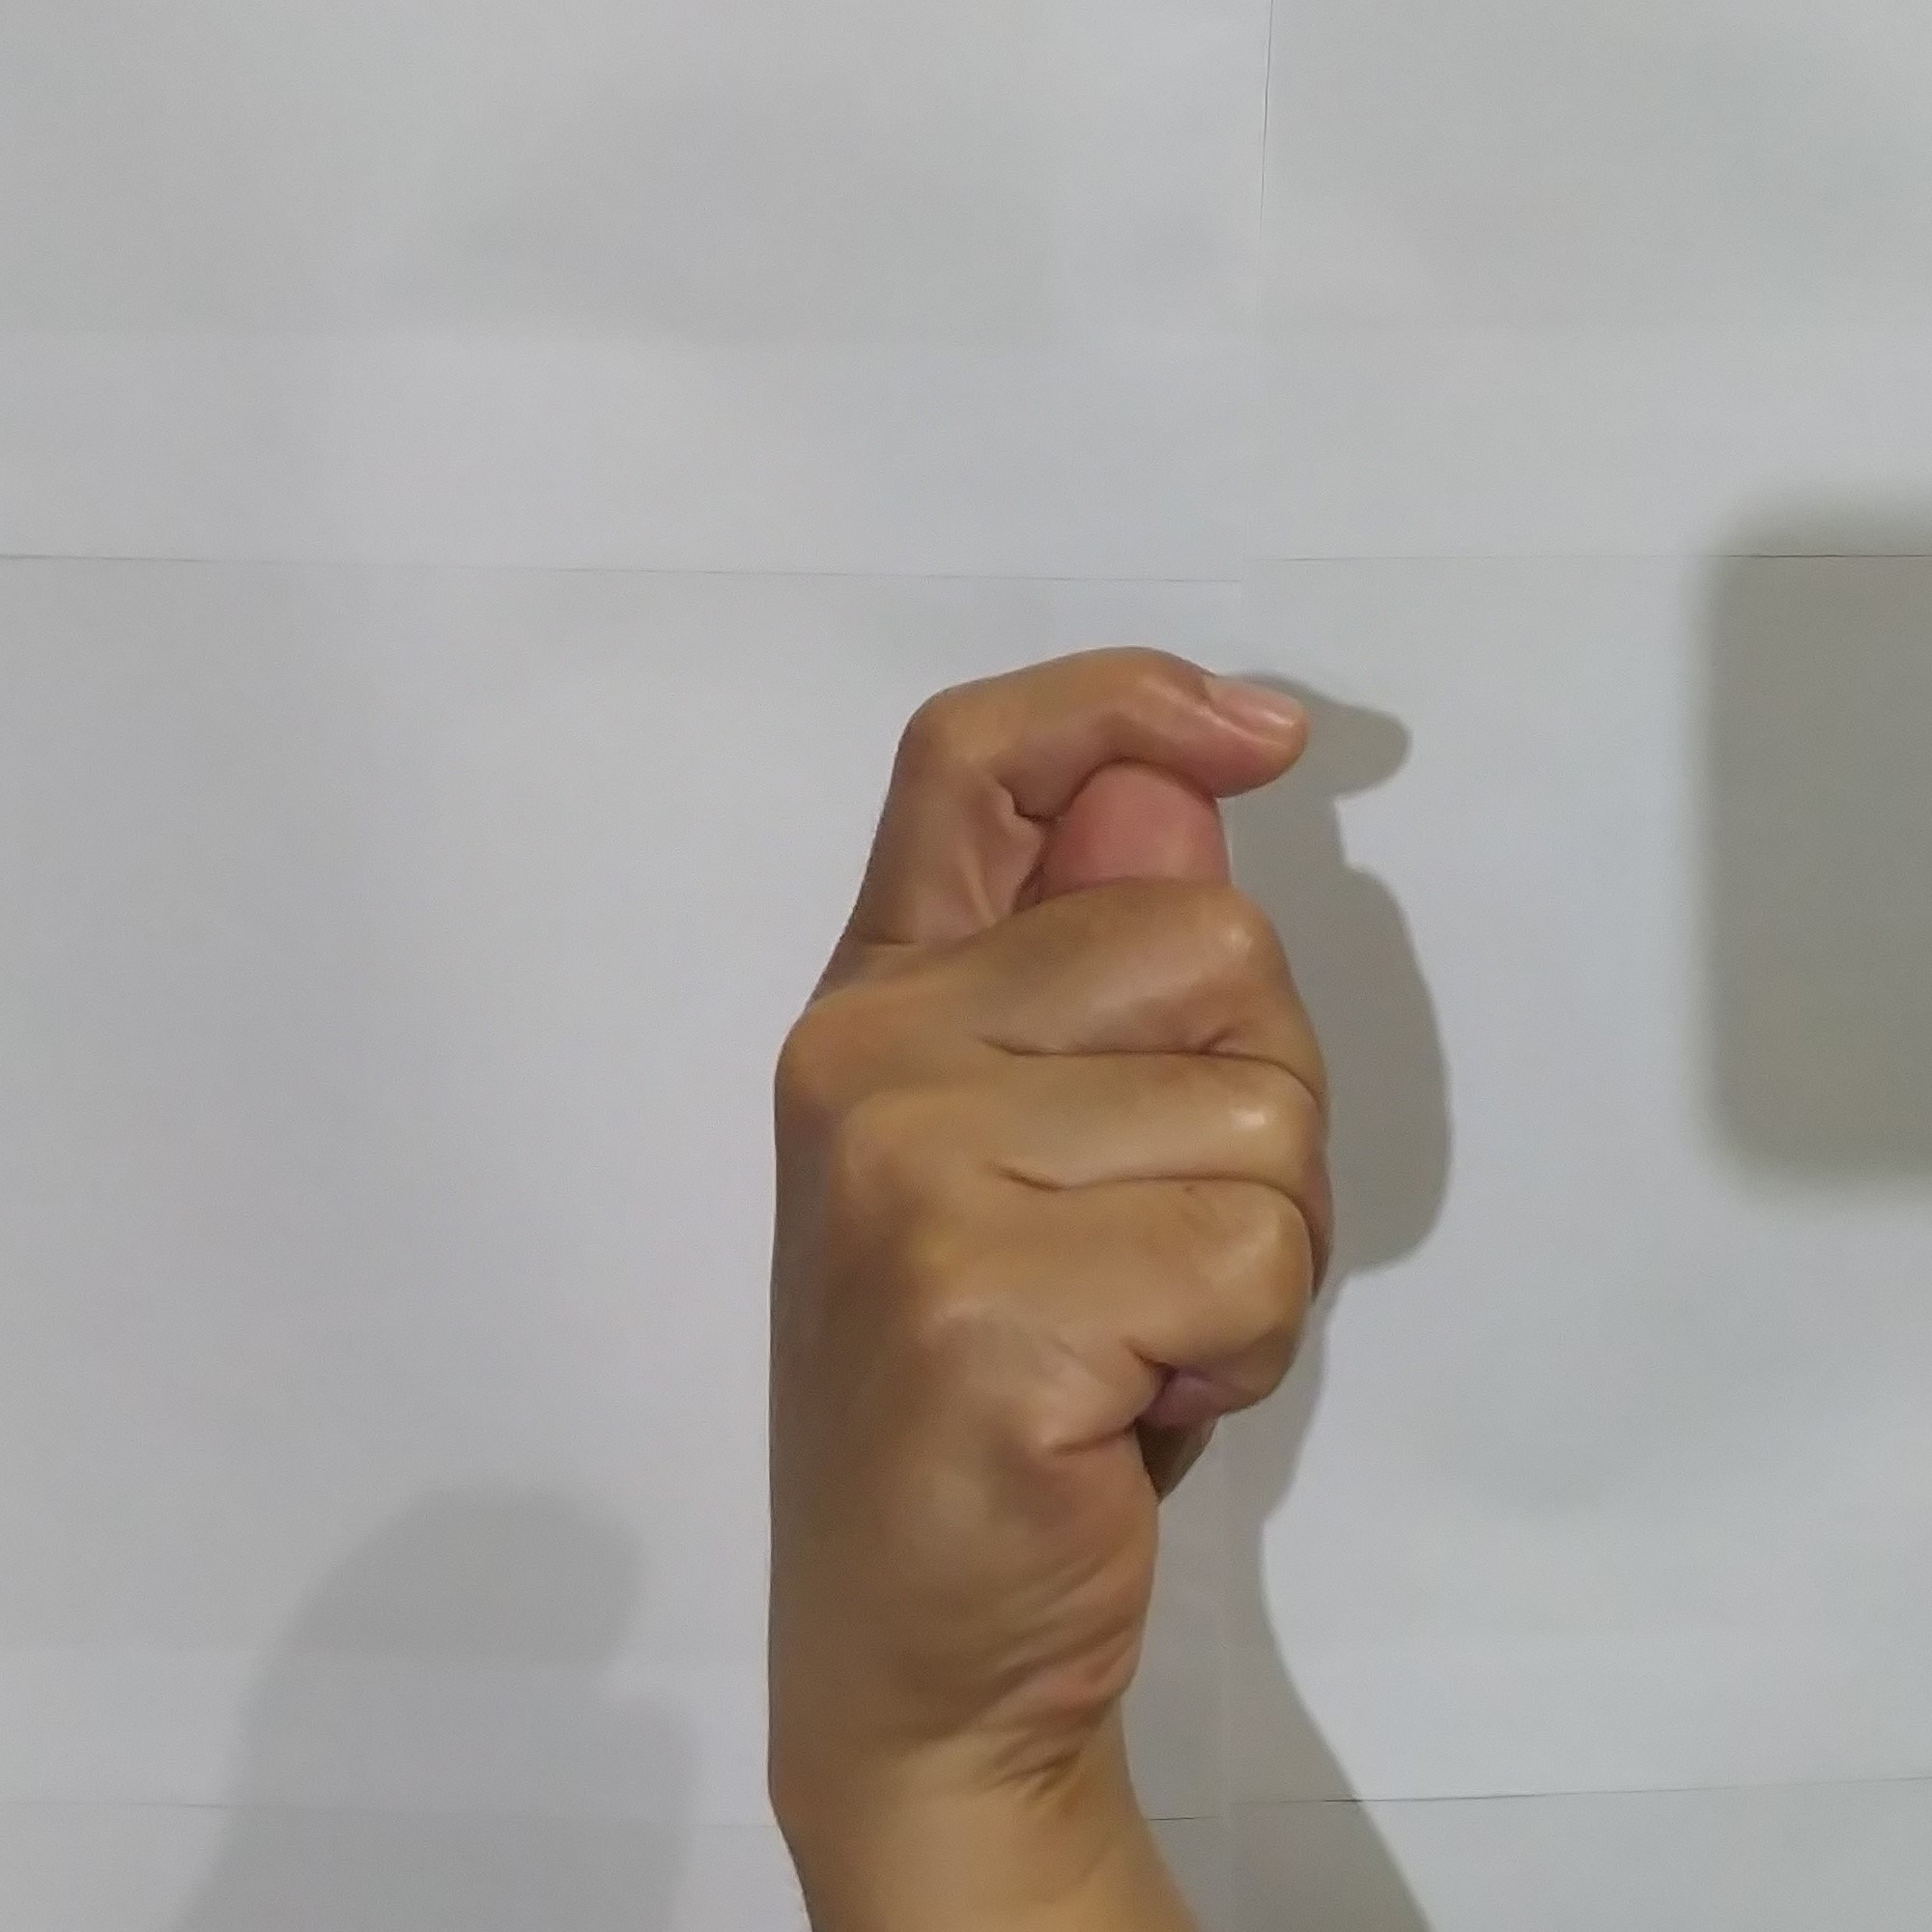T: (706, 610, 1376, 1748)
